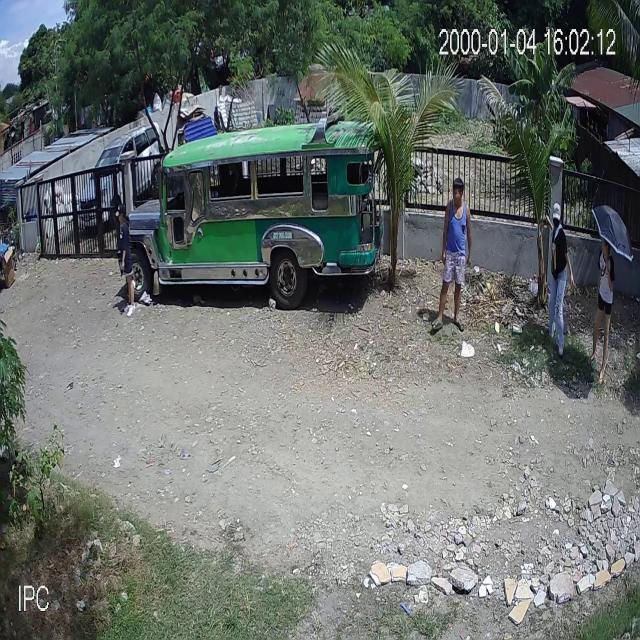standing: (108, 204, 137, 317)
walking: (430, 175, 473, 339), (544, 201, 572, 354), (588, 239, 616, 387)
